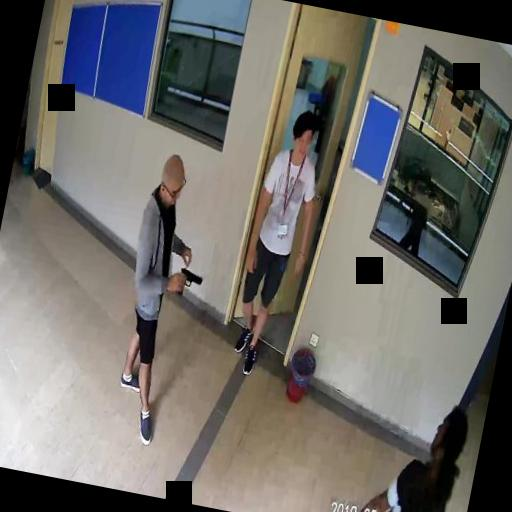Handgun: (174, 264, 204, 298)
